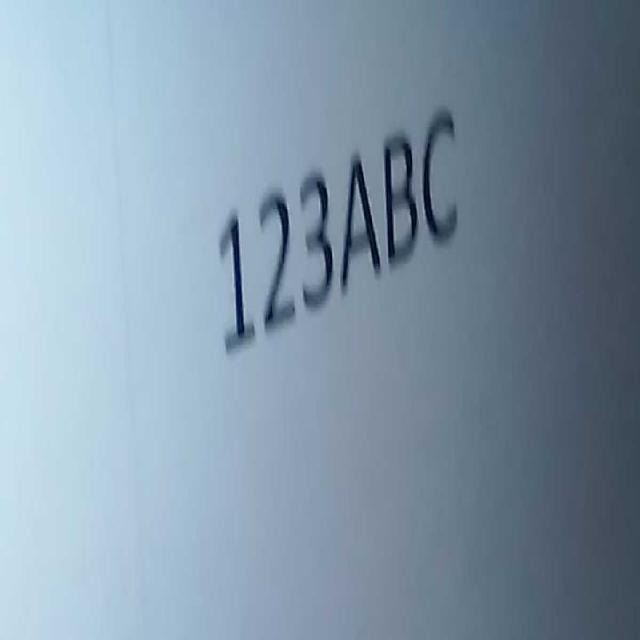license_plate: (217, 106, 475, 389)
